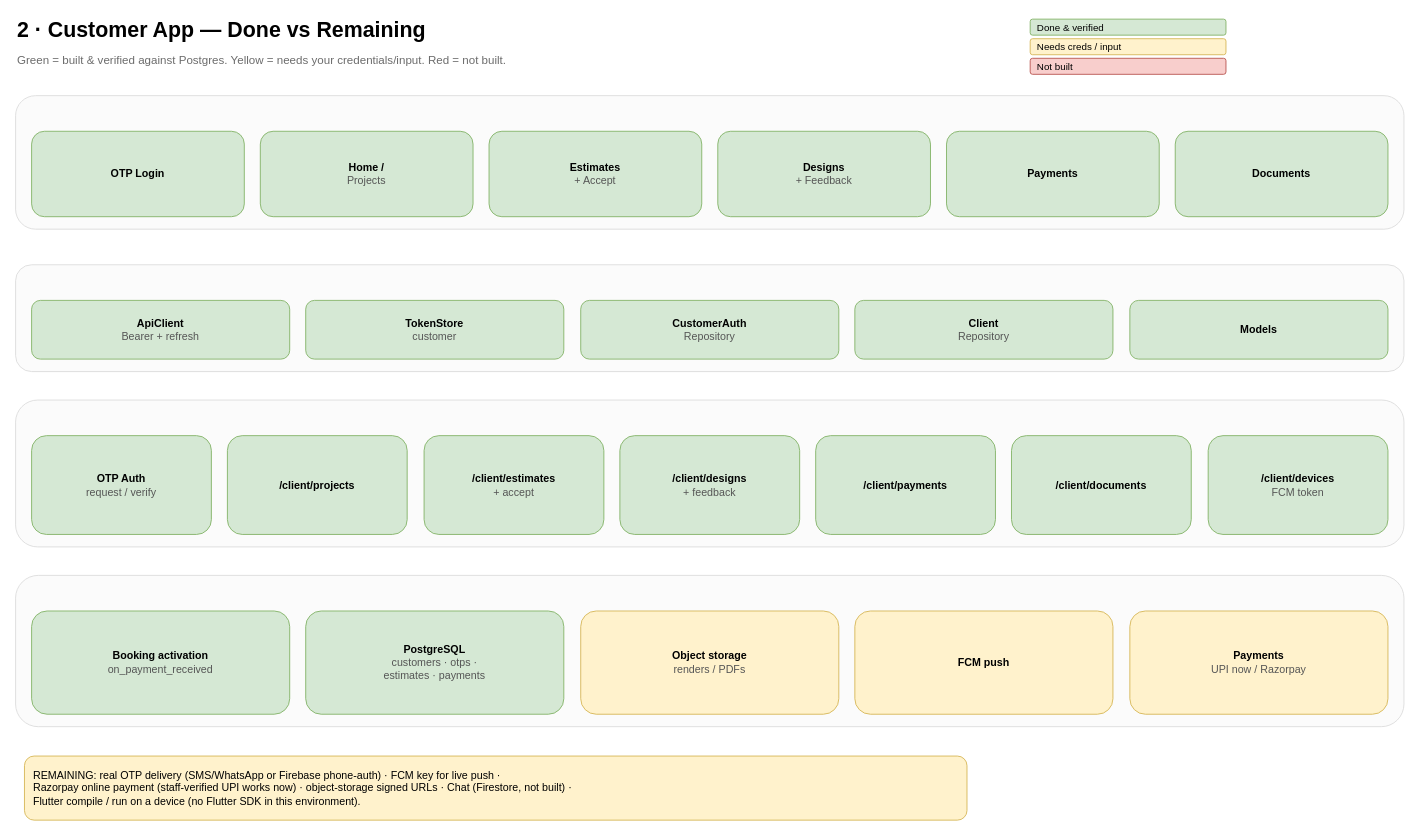
Some shapes in this 1420 by 836 pixel diagram are drawn without their labels. The shapes that lost their labels are listed below. From the top down, each one's box as (x1, y1, x2, y2) in pixels, then its label:
(15, 95, 1404, 229): CLIENT APP (Flutter · Dart)
(15, 264, 1404, 372): ij_core — shared Dart package
(15, 399, 1404, 547): BACKEND — Client BFF (FastAPI, /api/client/*)
(15, 574, 1404, 727): DOMAIN · DATA · EXTERNAL
